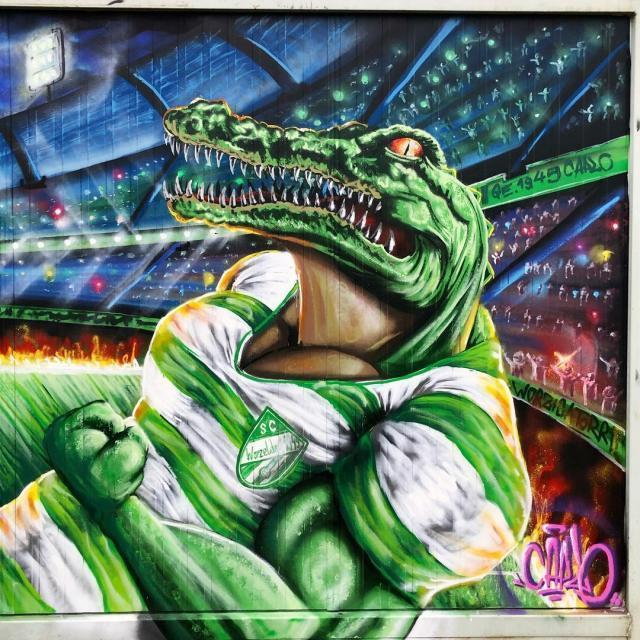nonspitting: (515, 522, 625, 610)
spitting: (49, 100, 534, 640)
